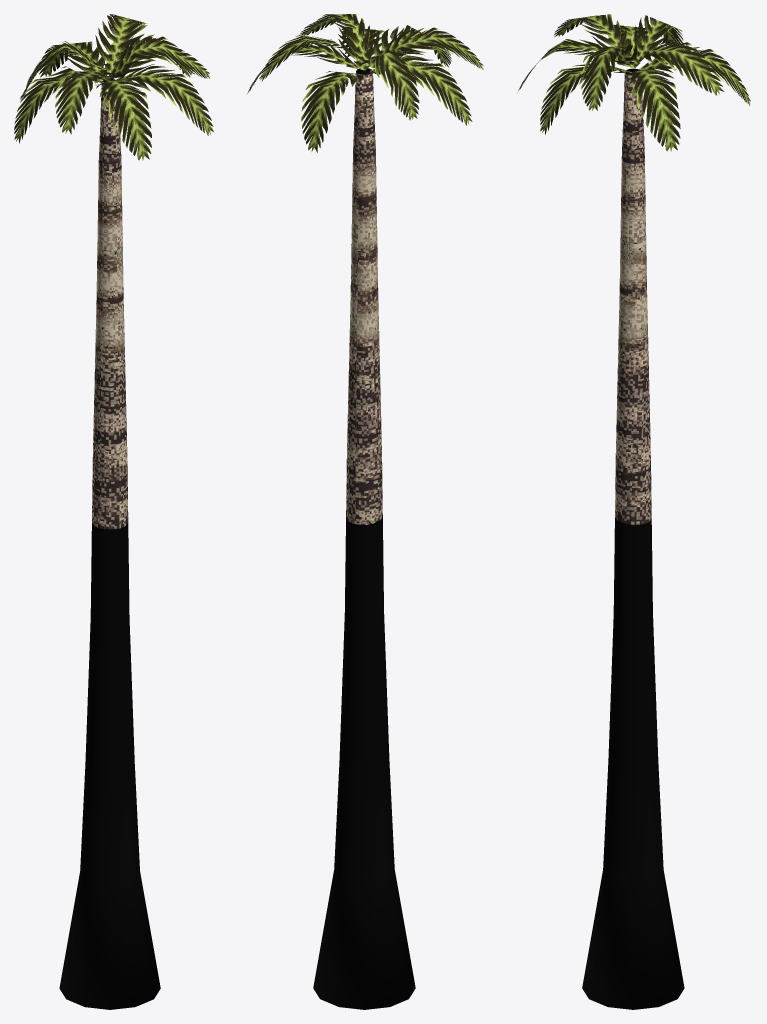
Rendered from Palm_lg.fbx.
3 renders of one model, left to right at view 1: azimuth 30°, elevation 25°; view 2: azimuth 150°, elevation 25°; view 3: azimuth 270°, elevation 25°, orthographic.
Parts seen in each view (by area): view 1: Palm_lg, PalmLeaf.002, PalmLeaf.001, PalmLeaf.003, PalmLeaf.005, PalmLeaf.004, PalmLeaf.007, PalmLeaf.008, PalmLeaf; view 2: Palm_lg, PalmLeaf.008, PalmLeaf.007, PalmLeaf, PalmLeaf.005, PalmLeaf.003, PalmLeaf.004, PalmLeaf.002, PalmLeaf.006, PalmLeaf.001; view 3: Palm_lg, PalmLeaf.006, PalmLeaf.004, PalmLeaf.003, PalmLeaf.001, PalmLeaf.005, PalmLeaf.008, PalmLeaf, PalmLeaf.002.
Boxes of the visible parts, left/top/right/bottom form: Palm_lg: left=59, top=79, right=160, bottom=1009; PalmLeaf.002: left=95, top=76, right=151, bottom=160; PalmLeaf.001: left=115, top=64, right=214, bottom=135; PalmLeaf.003: left=109, top=34, right=210, bottom=78; PalmLeaf.005: left=55, top=71, right=115, bottom=134; PalmLeaf.004: left=95, top=14, right=147, bottom=72; PalmLeaf.007: left=14, top=66, right=103, bottom=143; PalmLeaf.008: left=39, top=41, right=107, bottom=81; PalmLeaf: left=20, top=41, right=105, bottom=99; Palm_lg: left=313, top=68, right=415, bottom=1009; PalmLeaf.008: left=301, top=71, right=368, bottom=152; PalmLeaf.007: left=369, top=51, right=472, bottom=125; PalmLeaf: left=360, top=49, right=419, bottom=120; PalmLeaf.005: left=373, top=27, right=483, bottom=69; PalmLeaf.003: left=300, top=14, right=373, bottom=65; PalmLeaf.004: left=259, top=34, right=360, bottom=81; PalmLeaf.002: left=369, top=25, right=451, bottom=68; PalmLeaf.006: left=247, top=42, right=358, bottom=93; PalmLeaf.001: left=338, top=26, right=384, bottom=70; Palm_lg: left=582, top=68, right=684, bottom=1009; PalmLeaf.006: left=625, top=66, right=680, bottom=151; PalmLeaf.004: left=639, top=39, right=724, bottom=95; PalmLeaf.003: left=581, top=45, right=636, bottom=110; PalmLeaf.001: left=540, top=61, right=631, bottom=134; PalmLeaf.005: left=554, top=14, right=631, bottom=58; PalmLeaf.008: left=639, top=45, right=750, bottom=105; PalmLeaf: left=634, top=15, right=683, bottom=59; PalmLeaf.002: left=518, top=39, right=629, bottom=90.
Bounding box in the file's own units: 285 × 1302 × 293.
